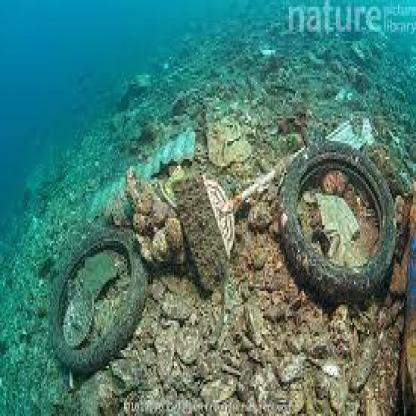misc: (183, 152, 239, 298)
rod: (230, 150, 290, 209)
tire: (296, 132, 406, 307), (53, 209, 147, 377)
